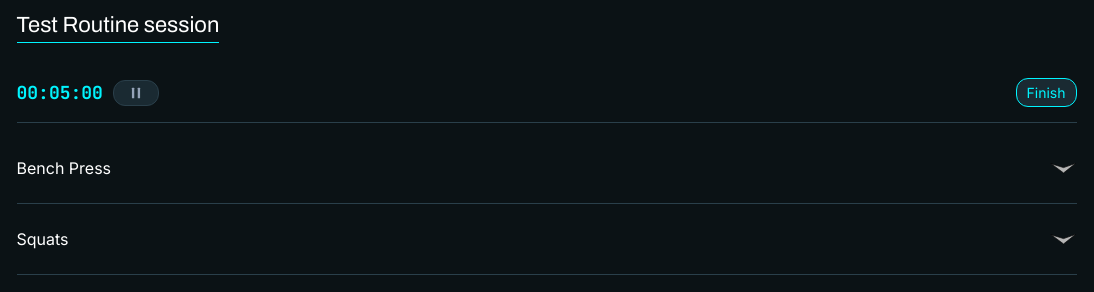
Scenario: should pause and resume timer
Click the button named "Pause" at (136, 92), box [113, 80, 159, 106]
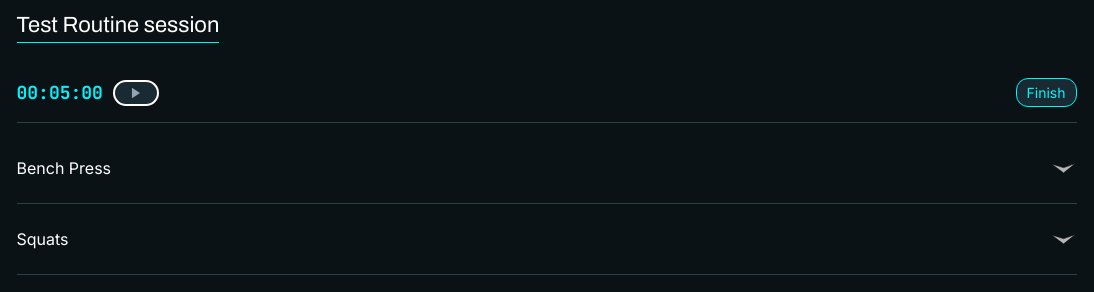
Now the button named "Resume" is shown
Click the button named "Resume" at (136, 92), box [113, 80, 159, 106]
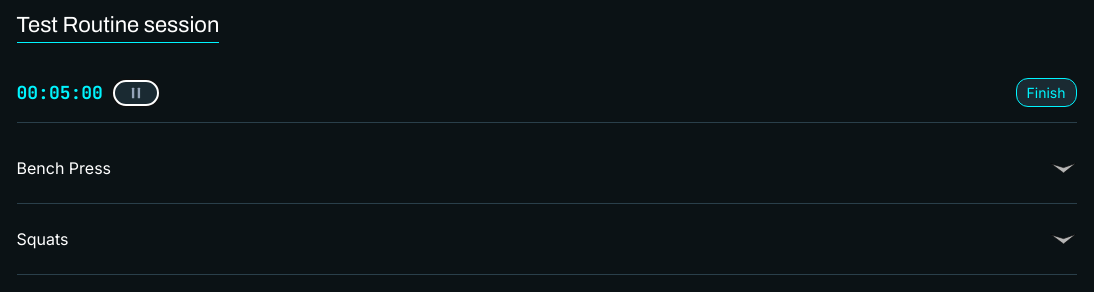
Now the button named "Pause" is shown, box [113, 80, 159, 106]
